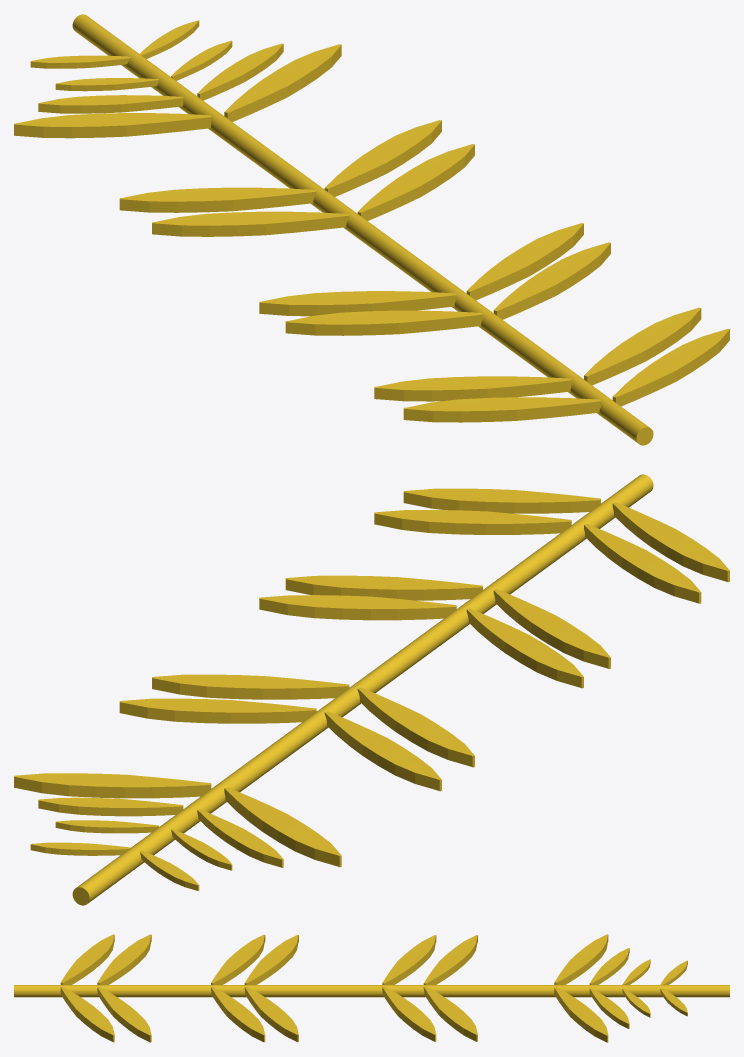
File: Wheat.fbx
3 views of the same model, one above another, from view 1: azimuth 30°, elevation 25°; view 2: azimuth 150°, elevation 25°; view 3: azimuth 270°, elevation 25° (orthographic). The views are drawn at different scales.
Parts seen in each view (by area): view 1: Cylinder; view 2: Cylinder; view 3: Cylinder.
Boxes of the visible parts, <box> form: Cylinder: <box>14,14,729,445</box>; Cylinder: <box>14,474,729,905</box>; Cylinder: <box>14,934,729,1042</box>.
Bounding box in the file's own units: 2.45 × 0.136 × 7.31.
